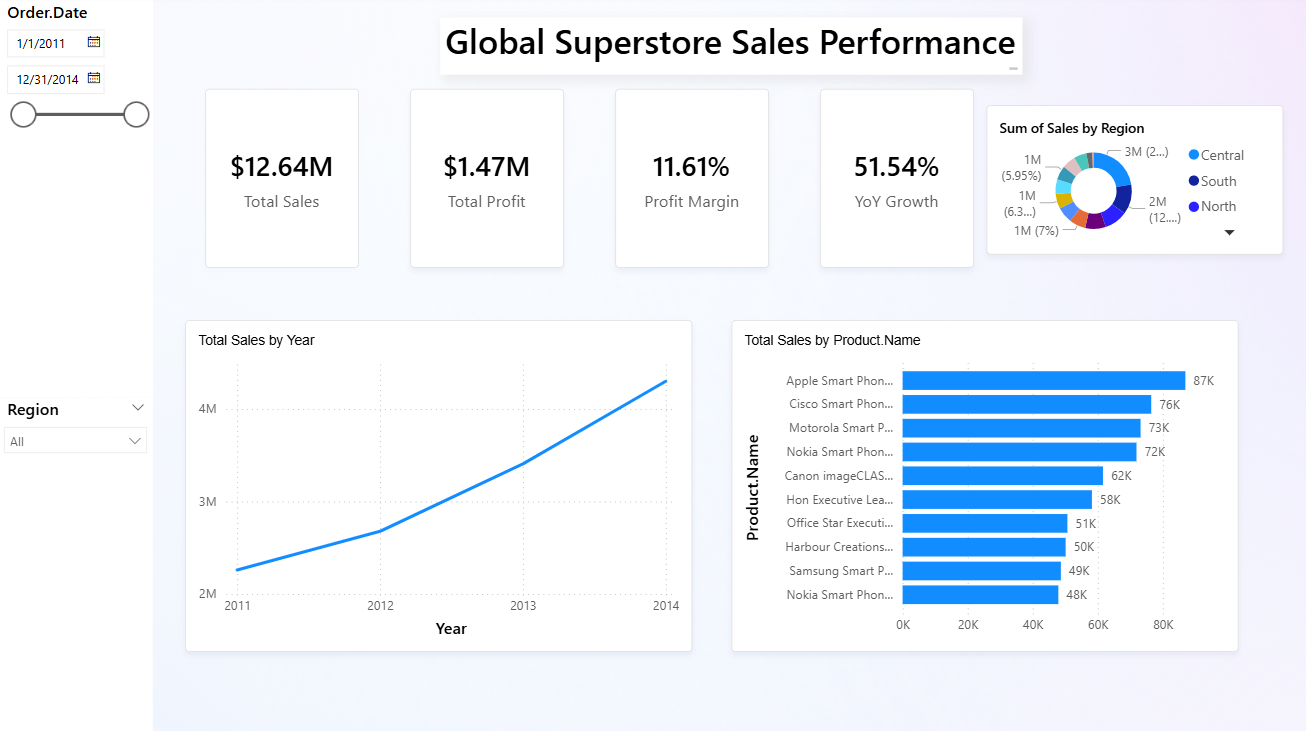

This screenshot's page, from the dashboard's own definition file:
{"tool":"powerbi","page":{"name":"Page 1","canvas":[1280,720],"ordinal":0},"visuals":[{"type":"card","fields":{"Values":["superstore.Total Sales"]},"box":[202.5,0,150,175],"z":0},{"type":"card","fields":{"Values":["Sum(superstore.Profit)"]},"box":[402.9,0,150,175],"z":1000},{"type":"card","fields":{"Values":["DateTable.Profit Margin"]},"box":[603.3,0,150,175],"z":2000},{"type":"card","fields":{"Values":["DateTable.YoY Growth"]},"box":[803.7,0,150,175],"z":3000},{"type":"lineChart","fields":{"Category":["DateTable.Year"],"Y":["superstore.Total Sales"]},"box":[182.5,226.2,496.2,325],"z":4000},{"type":"slicer","fields":{"Values":["superstore.Region"]},"box":[0,388.3,150,331.7],"z":5000},{"type":"slicer","fields":{"Values":["superstore.Order.Date"]},"box":[0,0,150,388.3],"z":6000},{"type":"clusteredBarChart","fields":{"Category":["superstore.Product.Name"],"Y":["superstore.Total Sales"]},"box":[717.5,226.2,496.2,325],"z":7000},{"type":"donutChart","fields":{"Category":["superstore.Region"],"Y":["Sum(superstore.Sales)"]},"box":[966,16,290,146],"z":8000}]}

Visuals, with their boxes in screenshot pixels (x1, y1, x2, y2), scaled from the page's 1280x720 canvas onto the 1306x731 screenshot:
card - superstore.Total Sales: x1=207, y1=0, x2=360, y2=178
card - Sum(superstore.Profit): x1=411, y1=0, x2=564, y2=178
card - DateTable.Profit Margin: x1=616, y1=0, x2=769, y2=178
card - DateTable.YoY Growth: x1=820, y1=0, x2=973, y2=178
lineChart - DateTable.Year x superstore.Total Sales: x1=186, y1=230, x2=692, y2=560
slicer - superstore.Region: x1=0, y1=394, x2=153, y2=730
slicer - superstore.Order.Date: x1=0, y1=0, x2=153, y2=394
clusteredBarChart - superstore.Product.Name x superstore.Total Sales: x1=732, y1=230, x2=1238, y2=560
donutChart - superstore.Region x Sum(superstore.Sales): x1=986, y1=16, x2=1282, y2=164
